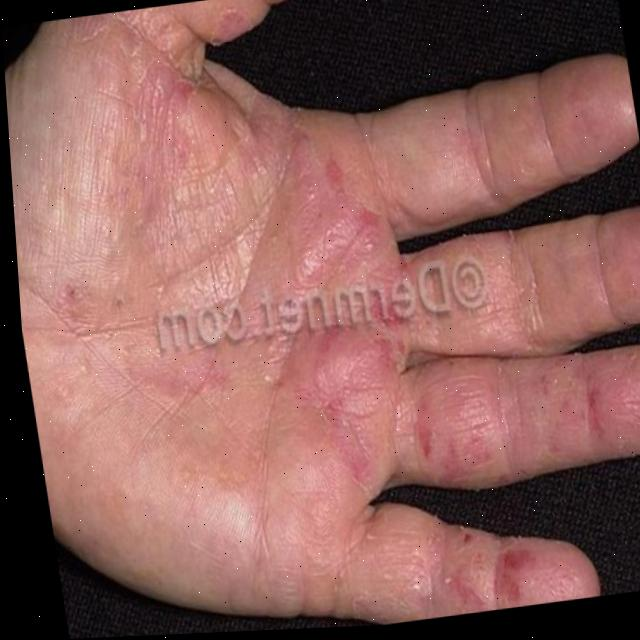Eczema: (155, 103, 462, 490)
